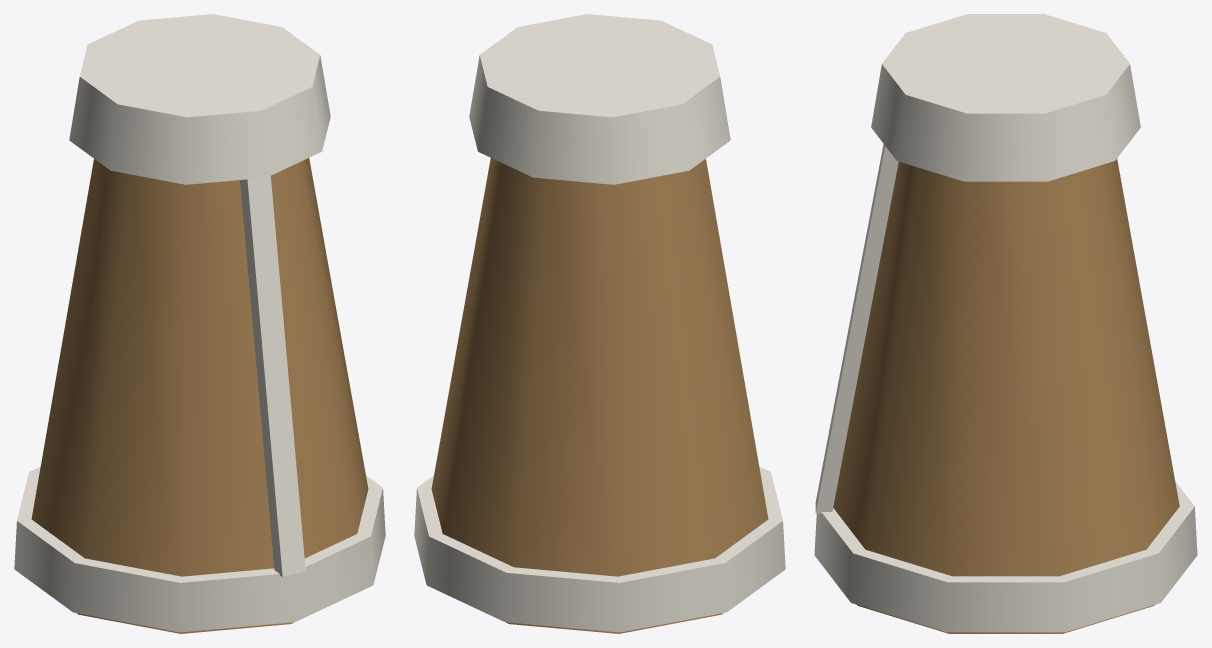
File: cat-coat-1.glb
3 views of the same model, side by side, from view 1: azimuth 30°, elevation 25°; view 2: azimuth 150°, elevation 25°; view 3: azimuth 270°, elevation 25° (orthographic).
Visible parts, largest first — view 1: 00_#b08a58_r320, 01_#f0ece0_r110, 02_#f0ece0_r320, 03_#f0ece0_noshadow_r320; view 2: 00_#b08a58_r320, 01_#f0ece0_r110, 02_#f0ece0_r320; view 3: 00_#b08a58_r320, 01_#f0ece0_r110, 02_#f0ece0_r320, 03_#f0ece0_noshadow_r320.
Part boxes in pixels (x1,y1,x2,y2): 00_#b08a58_r320: (31,158,368,633); 01_#f0ece0_r110: (69,14,330,184); 02_#f0ece0_r320: (14,467,385,632); 03_#f0ece0_noshadow_r320: (240,176,305,576); 00_#b08a58_r320: (431,158,768,633); 01_#f0ece0_r110: (469,14,730,184); 02_#f0ece0_r320: (414,467,785,632); 00_#b08a58_r320: (833,158,1179,633); 01_#f0ece0_r110: (871,14,1140,181); 02_#f0ece0_r320: (814,481,1197,632); 03_#f0ece0_noshadow_r320: (815,144,898,513).
Size of the model in its own units: 0.6753 by 1.01 by 0.71.
